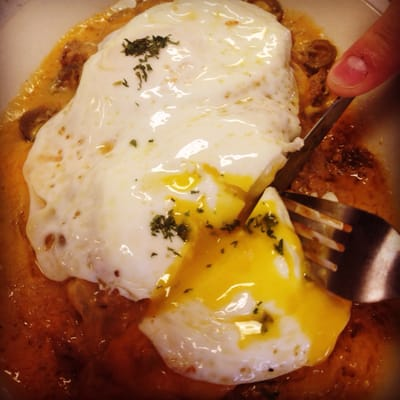sandwich: (1, 1, 391, 395)
